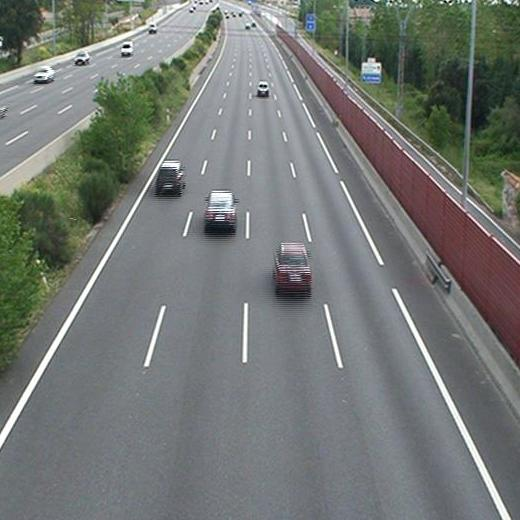car: (274, 243, 312, 289), (205, 191, 236, 224), (157, 161, 183, 190), (257, 82, 269, 95)
